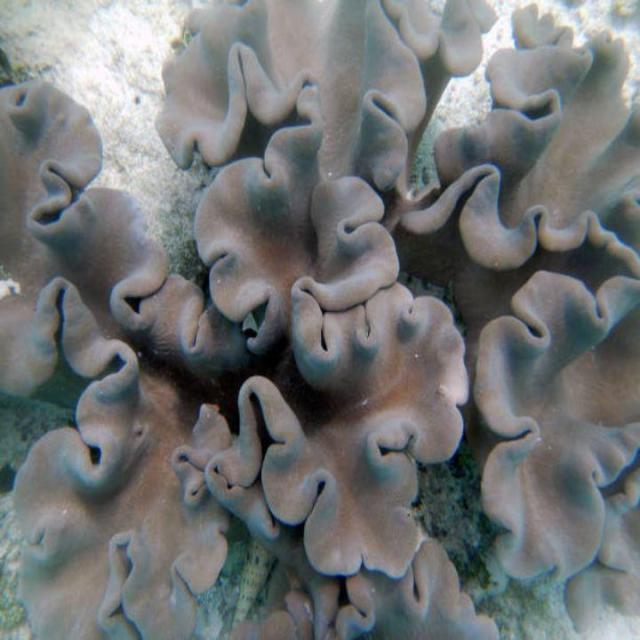Dead Coral: (22, 45, 581, 603)
